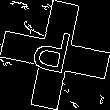P_S: (31, 26, 79, 84)
